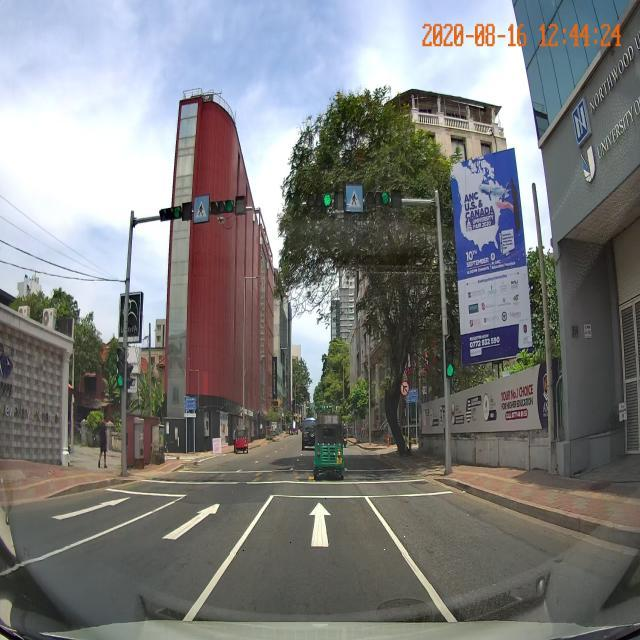forward: (230, 497, 409, 554)
